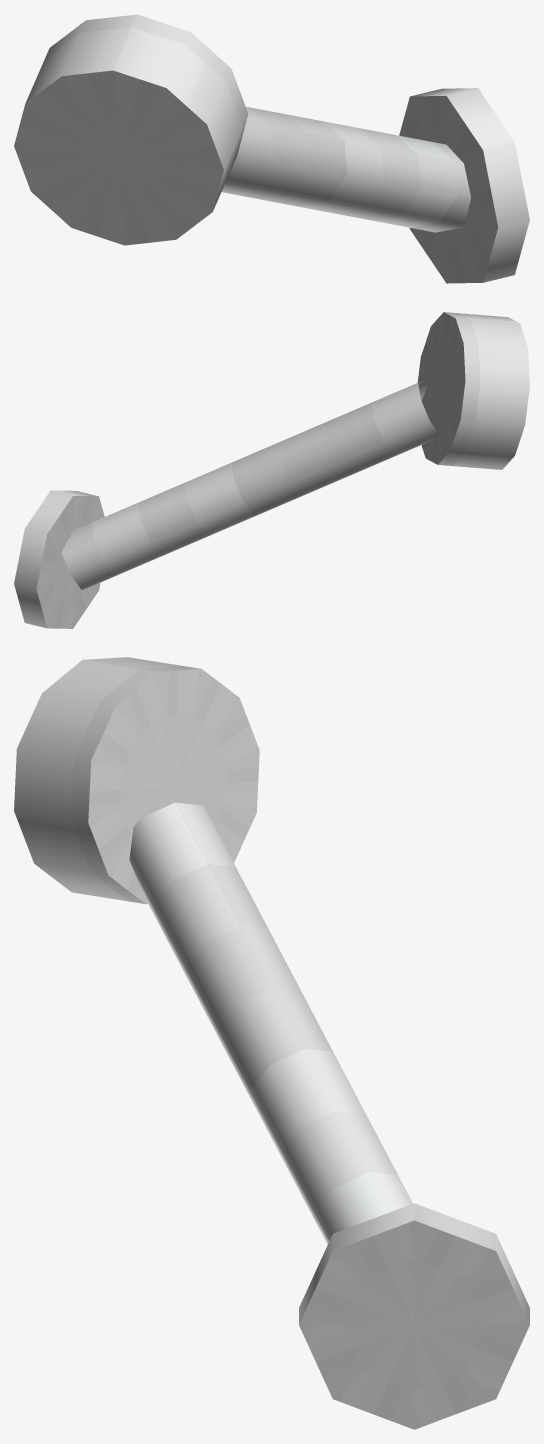
Rendered from nycsignalarm_stub_226.obj.
3 views of the same model, one above another, from view 1: azimuth 30°, elevation 25°; view 2: azimuth 150°, elevation 25°; view 3: azimuth 270°, elevation 25° (orthographic). The views are drawn at different scales.
Visible parts, largest first — view 1: nycsignalarm_stub_226; view 2: nycsignalarm_stub_226; view 3: nycsignalarm_stub_226.
Part boxes in pixels (x1,y1,x2,y2): nycsignalarm_stub_226: (14, 14, 529, 283); nycsignalarm_stub_226: (14, 312, 529, 628); nycsignalarm_stub_226: (14, 657, 529, 1429).
Bounding box in the file's own units: 1.11 × 0.8524 × 0.7817.
